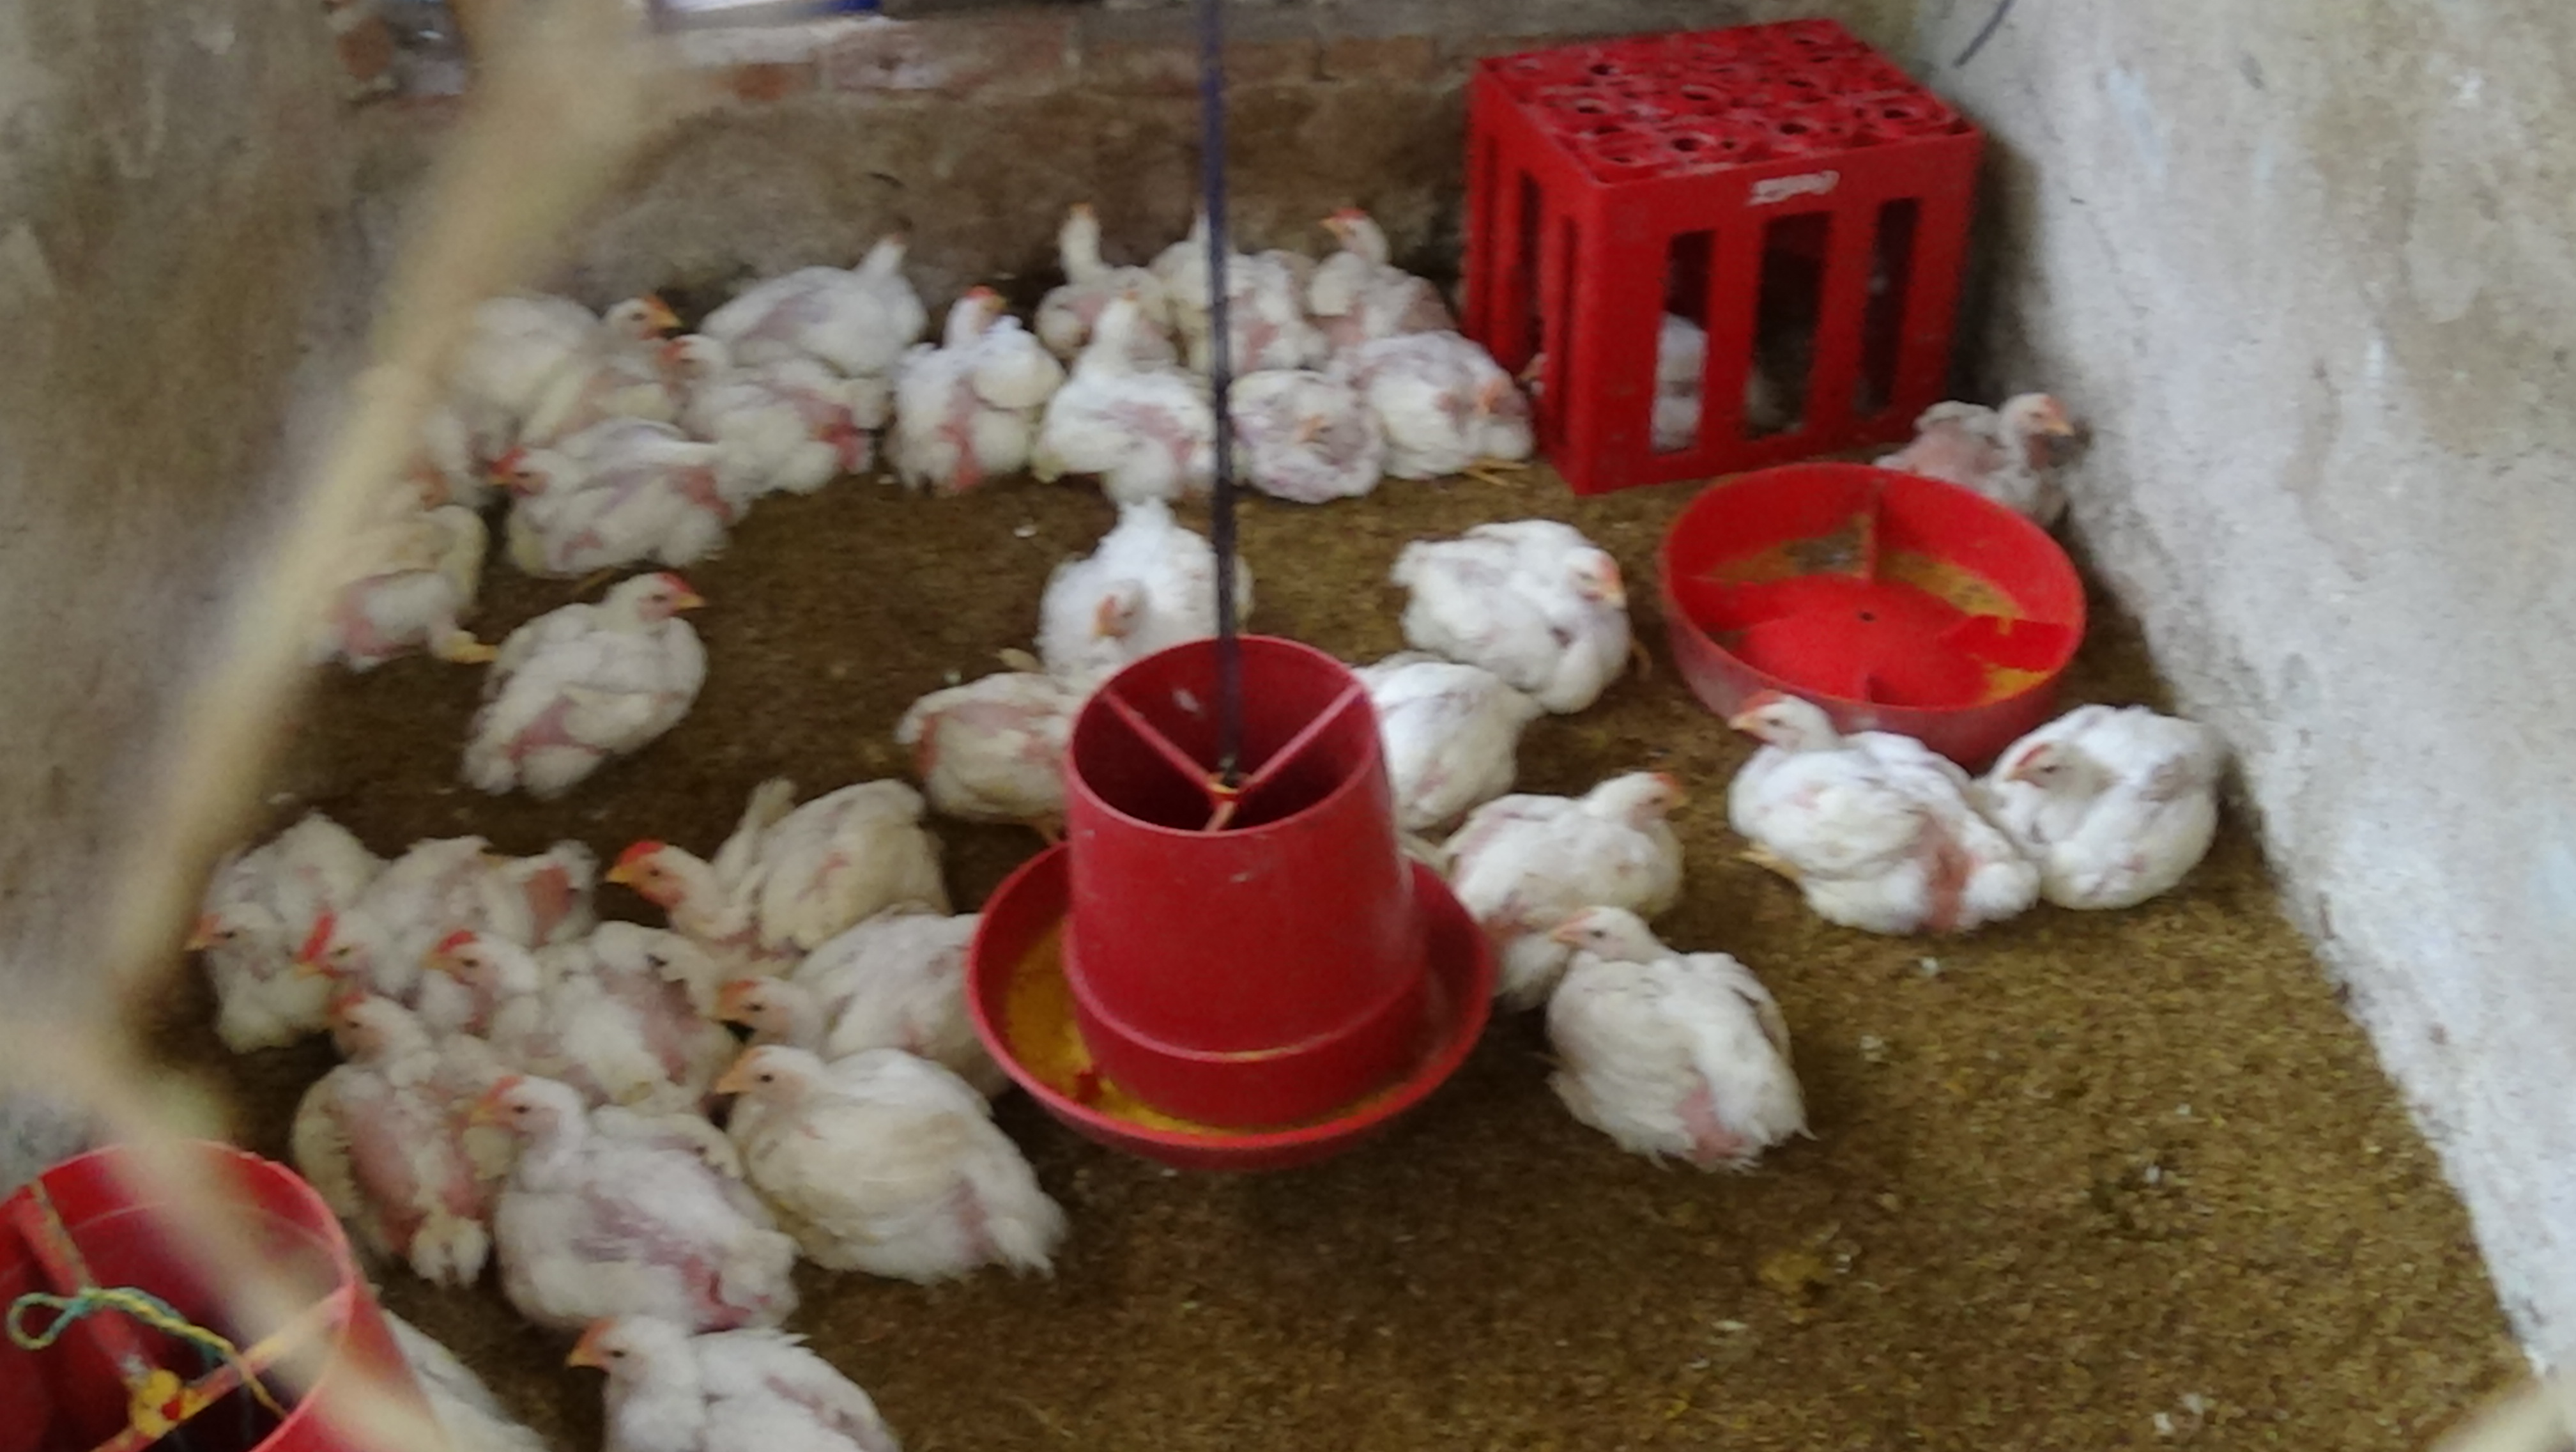Pollos: (713, 1031, 1067, 1280), (1534, 910, 1828, 1167), (1711, 682, 2017, 924), (2008, 673, 2247, 924), (1458, 747, 1736, 960), (456, 1078, 727, 1293), (494, 565, 734, 797), (605, 799, 941, 944), (702, 894, 1003, 1045), (566, 1312, 876, 1452), (1408, 519, 1654, 678), (1495, 303, 1780, 439), (301, 829, 487, 1022), (1874, 367, 2105, 517), (487, 429, 727, 567), (1357, 634, 1553, 799), (1056, 490, 1240, 662), (313, 985, 451, 1208), (428, 912, 628, 1064), (327, 466, 462, 676), (886, 668, 1095, 802), (1047, 303, 1210, 473), (895, 289, 1051, 457), (195, 822, 318, 1025), (1373, 336, 1523, 498), (648, 336, 842, 460), (764, 228, 943, 349), (1228, 363, 1373, 496), (1309, 193, 1442, 324), (1166, 182, 1290, 317), (474, 294, 678, 374), (1040, 177, 1143, 313)
